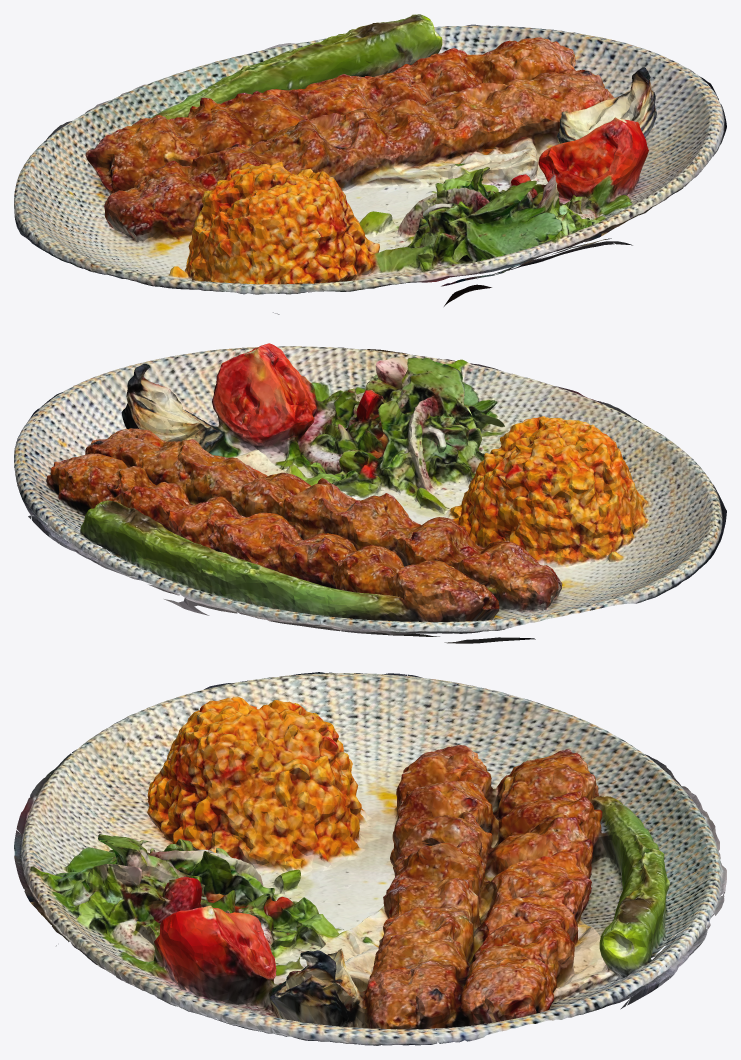
Rendered from kebab-adana.glb.
The picture shows the model from 3 angles, top to bottom: view 1: azimuth 30°, elevation 25°; view 2: azimuth 150°, elevation 25°; view 3: azimuth 270°, elevation 25°; orthographic projection. The views are drawn at different scales.
Size of the model in its own units: 0.3031 by 0.046 by 0.2384.
1 material, 1 textured.
